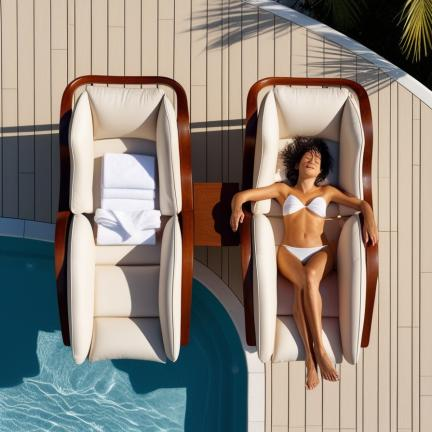empty chair: (55, 76, 194, 363)
guest on chair: (230, 78, 379, 390)
